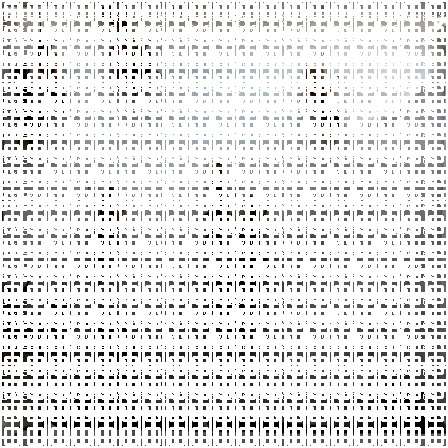bee: (294, 44, 352, 157), (24, 19, 80, 129), (77, 295, 149, 379), (187, 152, 239, 263), (80, 168, 130, 281), (230, 194, 284, 298), (195, 267, 264, 348), (3, 48, 53, 158), (367, 368, 438, 440), (102, 31, 170, 103), (30, 278, 77, 369), (1, 273, 30, 369)
